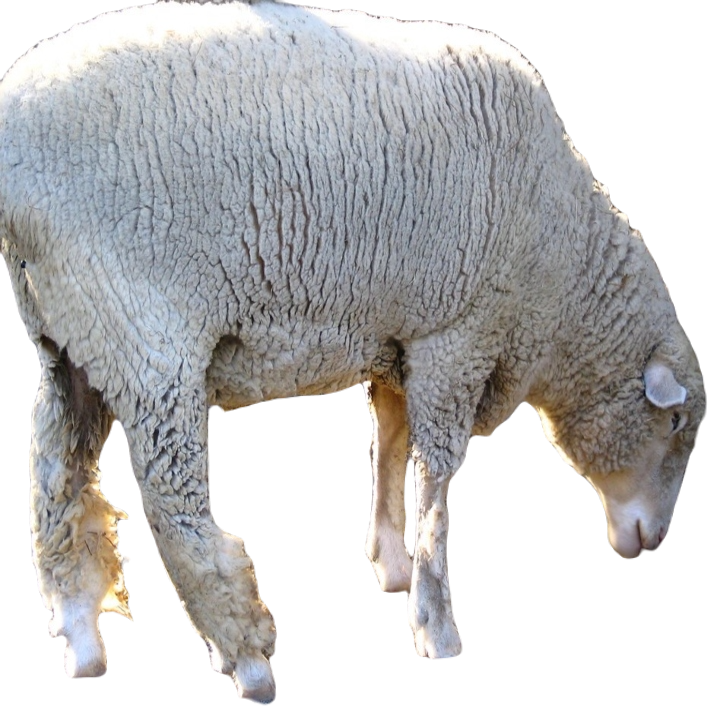Sheep: (0, 0, 714, 720)
